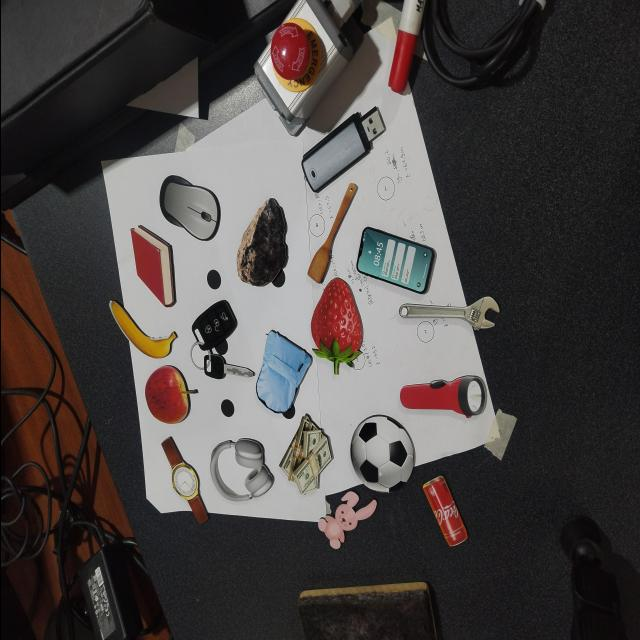Other Objects: (296, 98, 390, 197), (178, 295, 255, 405), (245, 327, 313, 423), (150, 434, 218, 528), (305, 179, 363, 286), (275, 412, 340, 503), (152, 170, 225, 246), (355, 226, 435, 295), (348, 414, 415, 494), (100, 299, 178, 367), (398, 373, 487, 428), (234, 198, 287, 288), (277, 414, 333, 496), (208, 438, 273, 503), (107, 300, 177, 359), (398, 296, 500, 336), (316, 491, 376, 550), (421, 475, 467, 548), (143, 365, 197, 425), (0, 212, 27, 265)
